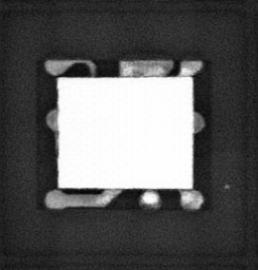DIE_INK: (222, 182, 231, 190)
